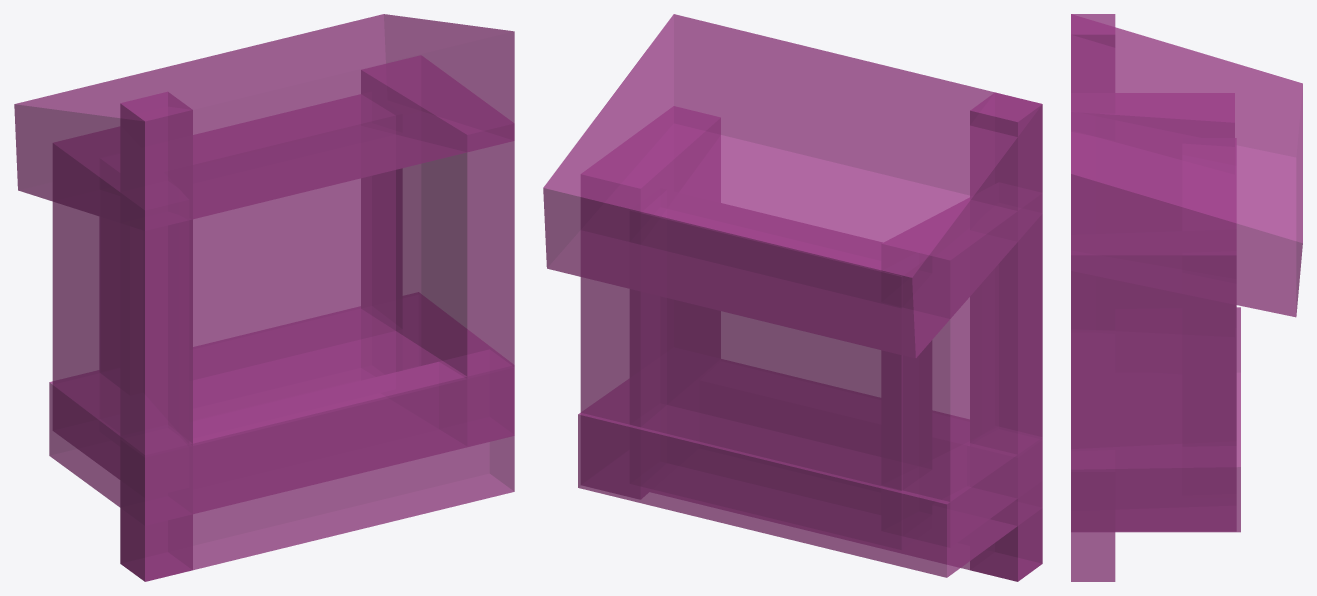
The model's file is SM_Bld_Alcove_03_Collision_01.fbx.
3 views of the same model, side by side, from view 1: azimuth 30°, elevation 25°; view 2: azimuth 150°, elevation 25°; view 3: azimuth 270°, elevation 25° (orthographic). The views are drawn at different scales.
Parts seen in each view (by area): view 1: SM_Bld_Alcove_03_Collision_01; view 2: SM_Bld_Alcove_03_Collision_01; view 3: SM_Bld_Alcove_03_Collision_01.
Boxes of the visible parts, box(x1,y1,x2,y2) form: SM_Bld_Alcove_03_Collision_01: box(14, 14, 514, 581); SM_Bld_Alcove_03_Collision_01: box(543, 14, 1042, 581); SM_Bld_Alcove_03_Collision_01: box(1071, 14, 1302, 581).
Size of the model in its own units: 254 by 302 by 155.
